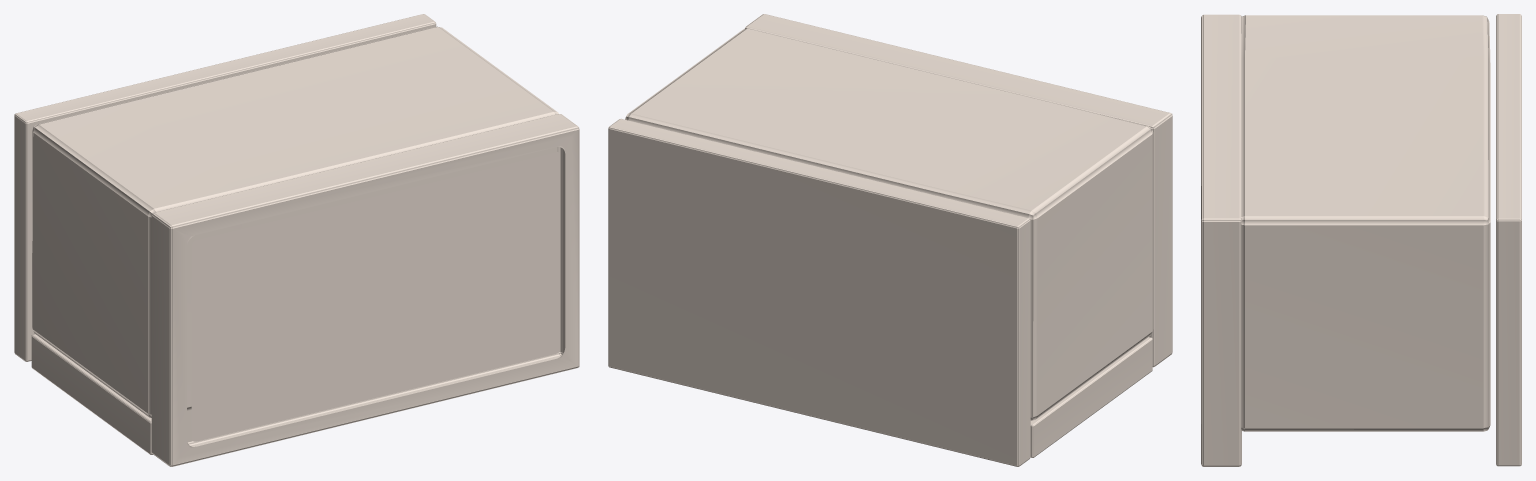
The model's file is BodymeshMicrowaveC4_0_GeomSubset_0.obj.
3 views of the same model, side by side, from view 1: azimuth 30°, elevation 25°; view 2: azimuth 150°, elevation 25°; view 3: azimuth 270°, elevation 25° (orthographic). The views are drawn at different scales.
Parts seen in each view (by area): view 1: BodymeshMicrowaveC4_0_GeomSubset_0; view 2: BodymeshMicrowaveC4_0_GeomSubset_0; view 3: BodymeshMicrowaveC4_0_GeomSubset_0.
Boxes of the visible parts, box(x1,y1,x2,y2) form: BodymeshMicrowaveC4_0_GeomSubset_0: box(14, 14, 579, 466); BodymeshMicrowaveC4_0_GeomSubset_0: box(608, 14, 1172, 466); BodymeshMicrowaveC4_0_GeomSubset_0: box(1201, 14, 1521, 466).
Bounding box in the file's own units: 0.6053 × 0.3525 × 0.3969.
